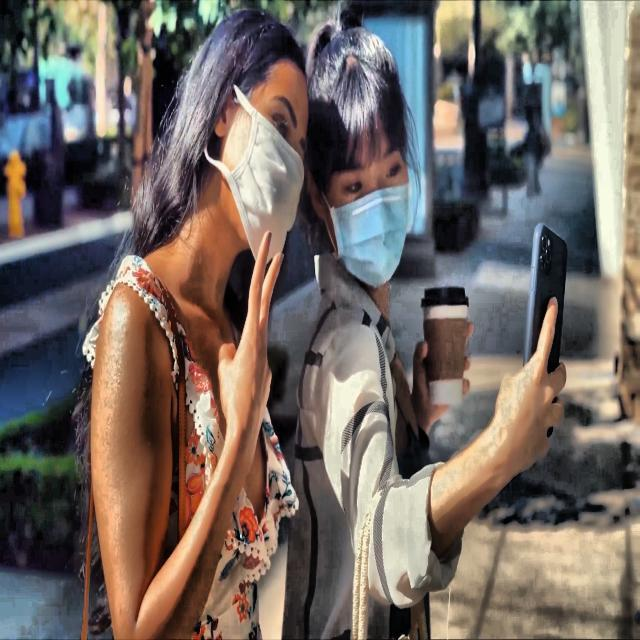Phone: (526, 220, 570, 440)
